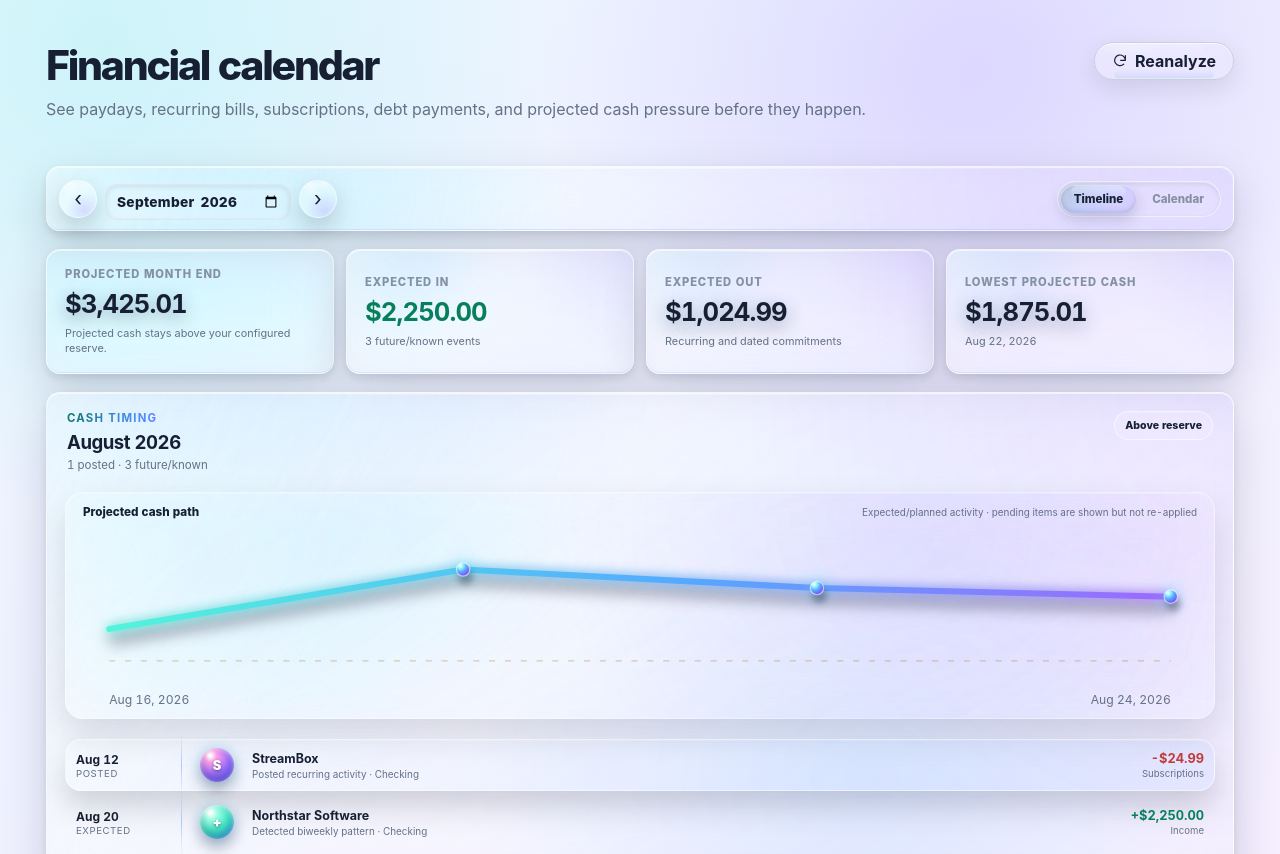
it: RecurringPage financial calendar › switches to the spatial calendar view
expect the text "Northstar Software" is shown: met, box [252, 808, 369, 823]
Step 1. Click the button "Calendar" → click(1178, 199), box [1139, 185, 1217, 213]
(page scrolled)
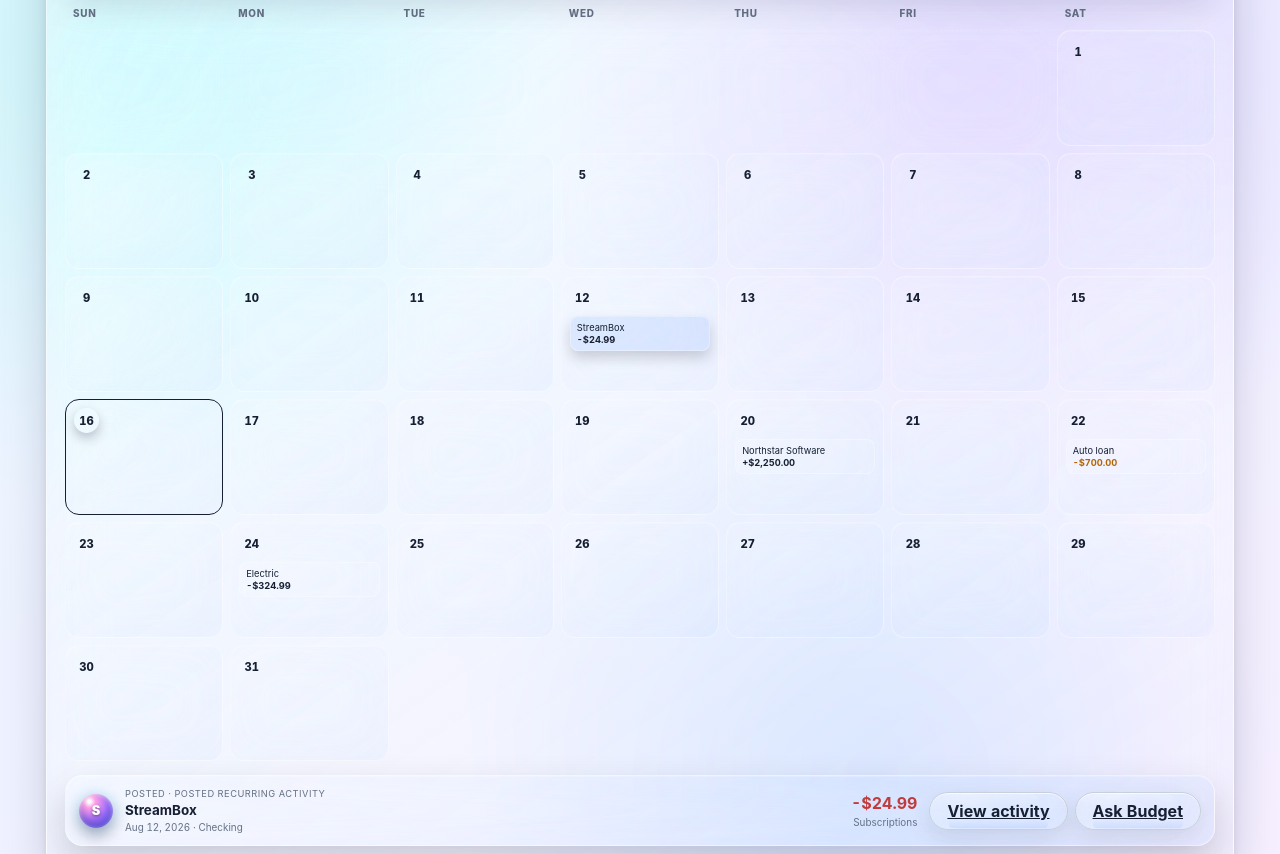
expect the text "Auto loan" is shown: met, box [1073, 445, 1114, 456]
expect the table named "August 2026 financial calendar" is shown: met
